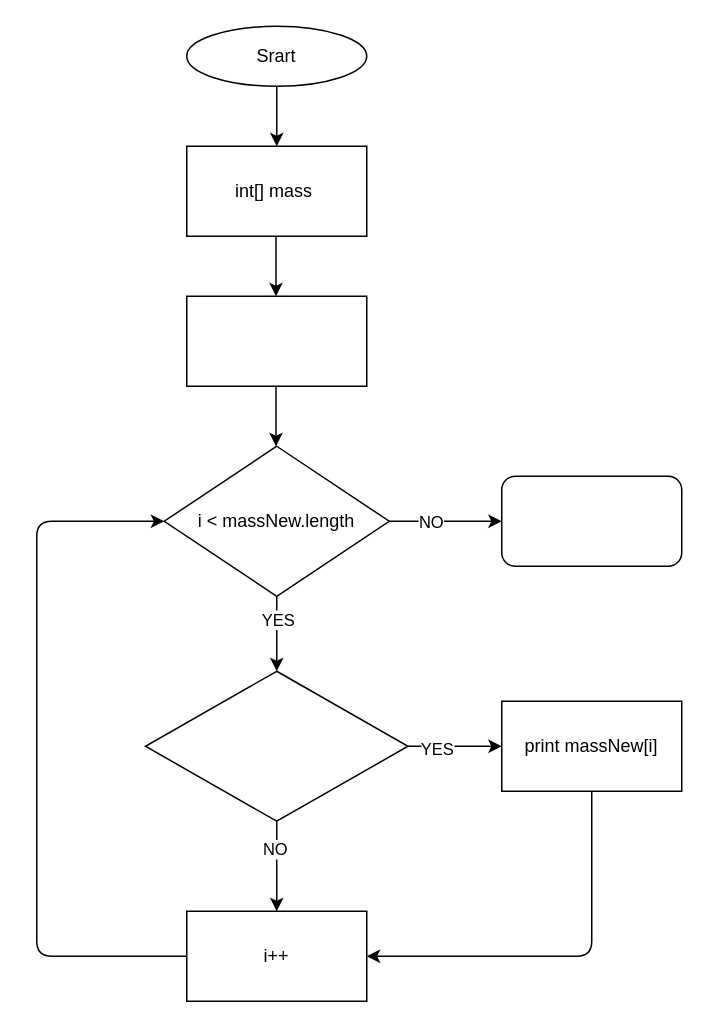
The diagram is 708 pixels wide and 1028 high, and some of its shapes have lost their labels. Each missing label, with the box of its shape:
End: (500, 475, 682, 566)
massNew[i] %2 == 0: (144, 670, 408, 821)
print mass: (185, 295, 367, 386)
